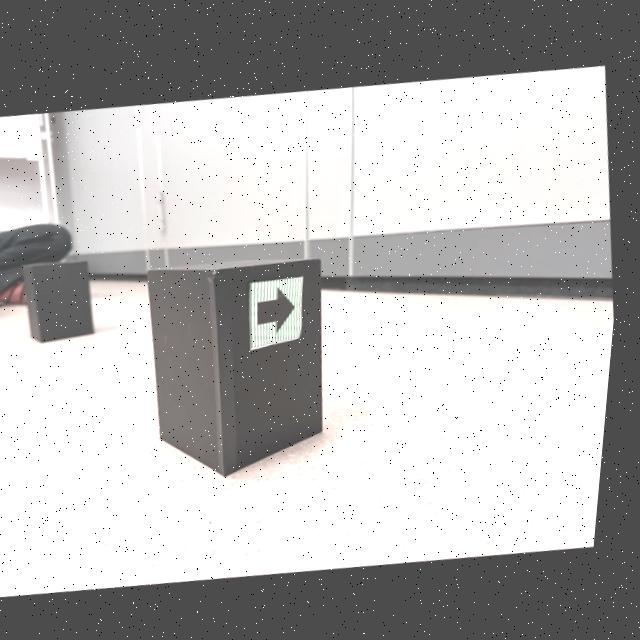DOWN: (262, 286, 300, 331)
